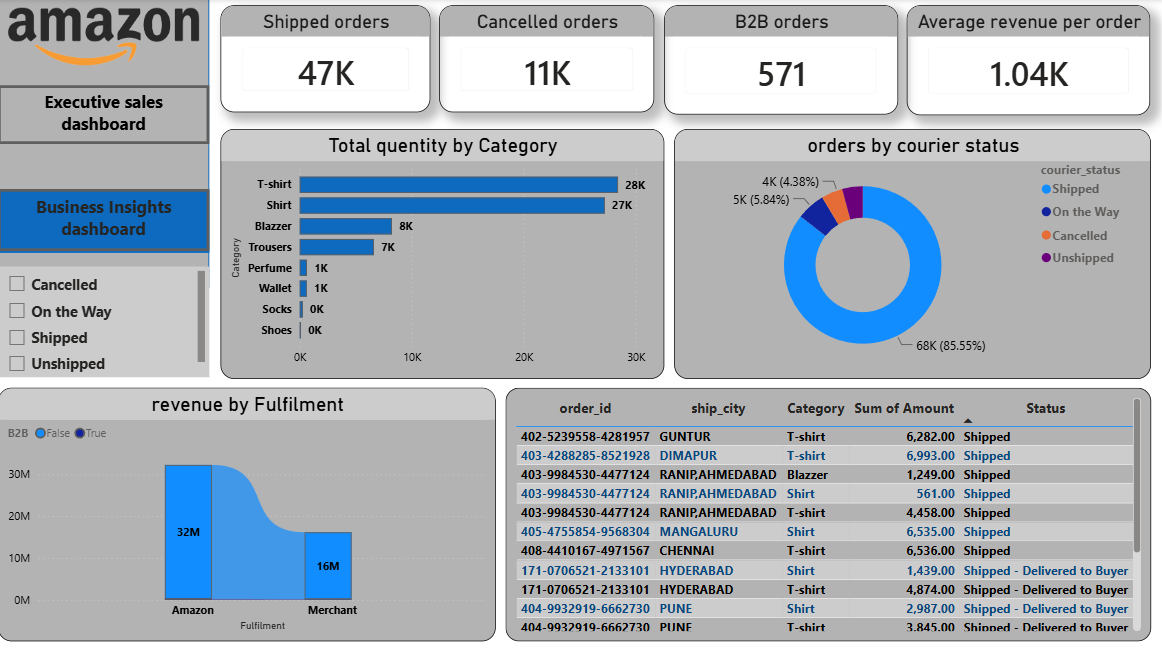

Layout of this report page (visuals, bound fields, positions):
{"tool":"powerbi","page":{"name":"Business Insights dashboard ","canvas":[1280,720],"ordinal":1},"visuals":[{"type":"shape","box":[0,0,231.9,317],"z":0},{"type":"image","box":[0,9.6,231.9,63.1],"z":1000},{"type":"textbox","box":[0,94.7,231.9,64.5],"z":2000},{"type":"textbox","box":[0,209.9,231.9,68.6],"z":3000},{"type":"actionButton","box":[0,94.7,231.9,64.5],"z":4000},{"type":"actionButton","box":[0,208.8,232,68.1],"z":5000},{"type":"cardVisual","title":"Shipped orders ","fields":{"Data":["Amazon Sale Report.shipped_orders"]},"box":[243.6,7.2,230.5,117.4],"z":6000},{"type":"cardVisual","title":"Cancelled orders","fields":{"Data":["Amazon Sale Report.cancelled_orders"]},"box":[484.3,7.2,236.3,117.4],"z":7000},{"type":"cardVisual","title":"B2B orders ","fields":{"Data":["Amazon Sale Report.B2B_orders"]},"box":[730.8,7.2,256.6,120.3],"z":8000},{"type":"cardVisual","title":"Average revenue per order","fields":{"Data":["Amazon Sale Report.Average_revenue_per_day"]},"box":[997.6,6.9,267.6,120.8],"z":9000},{"type":"donutChart","title":"orders by courier status","fields":{"Category":["Amazon Sale Report.courier_status"],"Y":["Amazon Sale Report.Total_orders"]},"box":[742.4,142.1,523.4,274],"z":10000},{"type":"tableEx","fields":{"Values":["Amazon Sale Report.order_id","Amazon Sale Report.ship_city","Amazon Sale Report.Category","Sum(Amazon Sale Report.Amount)","Amazon Sale Report.Status"]},"box":[556.8,426.3,709,278.4],"z":11000},{"type":"clusteredBarChart","title":"Total quentity by Category","fields":{"Category":["Amazon Sale Report.Category"],"Y":["Amazon Sale Report.Total_quentity"]},"box":[243.6,142.1,487.2,274],"z":12000},{"type":"ribbonChart","title":"revenue by Fulfilment ","fields":{"Category":["Amazon Sale Report.Fulfilment"],"Y":["Amazon Sale Report.Total_revenue"],"Series":["Amazon Sale Report.B2B"]},"box":[0,426.3,546.6,278.4],"z":13000},{"type":"slicer","fields":{"Values":["Amazon Sale Report.courier_status"]},"box":[0,294.3,232,121.8],"z":14000}]}

Visuals, with their boxes in screenshot pixels (x1, y1, x2, y2), scaled from the page's 1280x720 canvas onto the 1162x655 screenshot:
shape: box=[0, 0, 211, 288]
image: box=[0, 9, 211, 66]
textbox: box=[0, 86, 211, 145]
textbox: box=[0, 191, 211, 253]
actionButton: box=[0, 86, 211, 145]
actionButton: box=[0, 190, 211, 252]
"Shipped orders " cardVisual: box=[221, 7, 430, 113]
"Cancelled orders" cardVisual: box=[440, 7, 654, 113]
"B2B orders " cardVisual: box=[663, 7, 896, 116]
"Average revenue per order" cardVisual: box=[906, 6, 1149, 116]
"orders by courier status" donutChart: box=[674, 129, 1149, 379]
tableEx - Amazon Sale Report.order_id x Amazon Sale Report.ship_city: box=[505, 388, 1149, 641]
"Total quentity by Category" clusteredBarChart: box=[221, 129, 663, 379]
"revenue by Fulfilment " ribbonChart: box=[0, 388, 496, 641]
slicer - Amazon Sale Report.courier_status: box=[0, 268, 211, 379]
